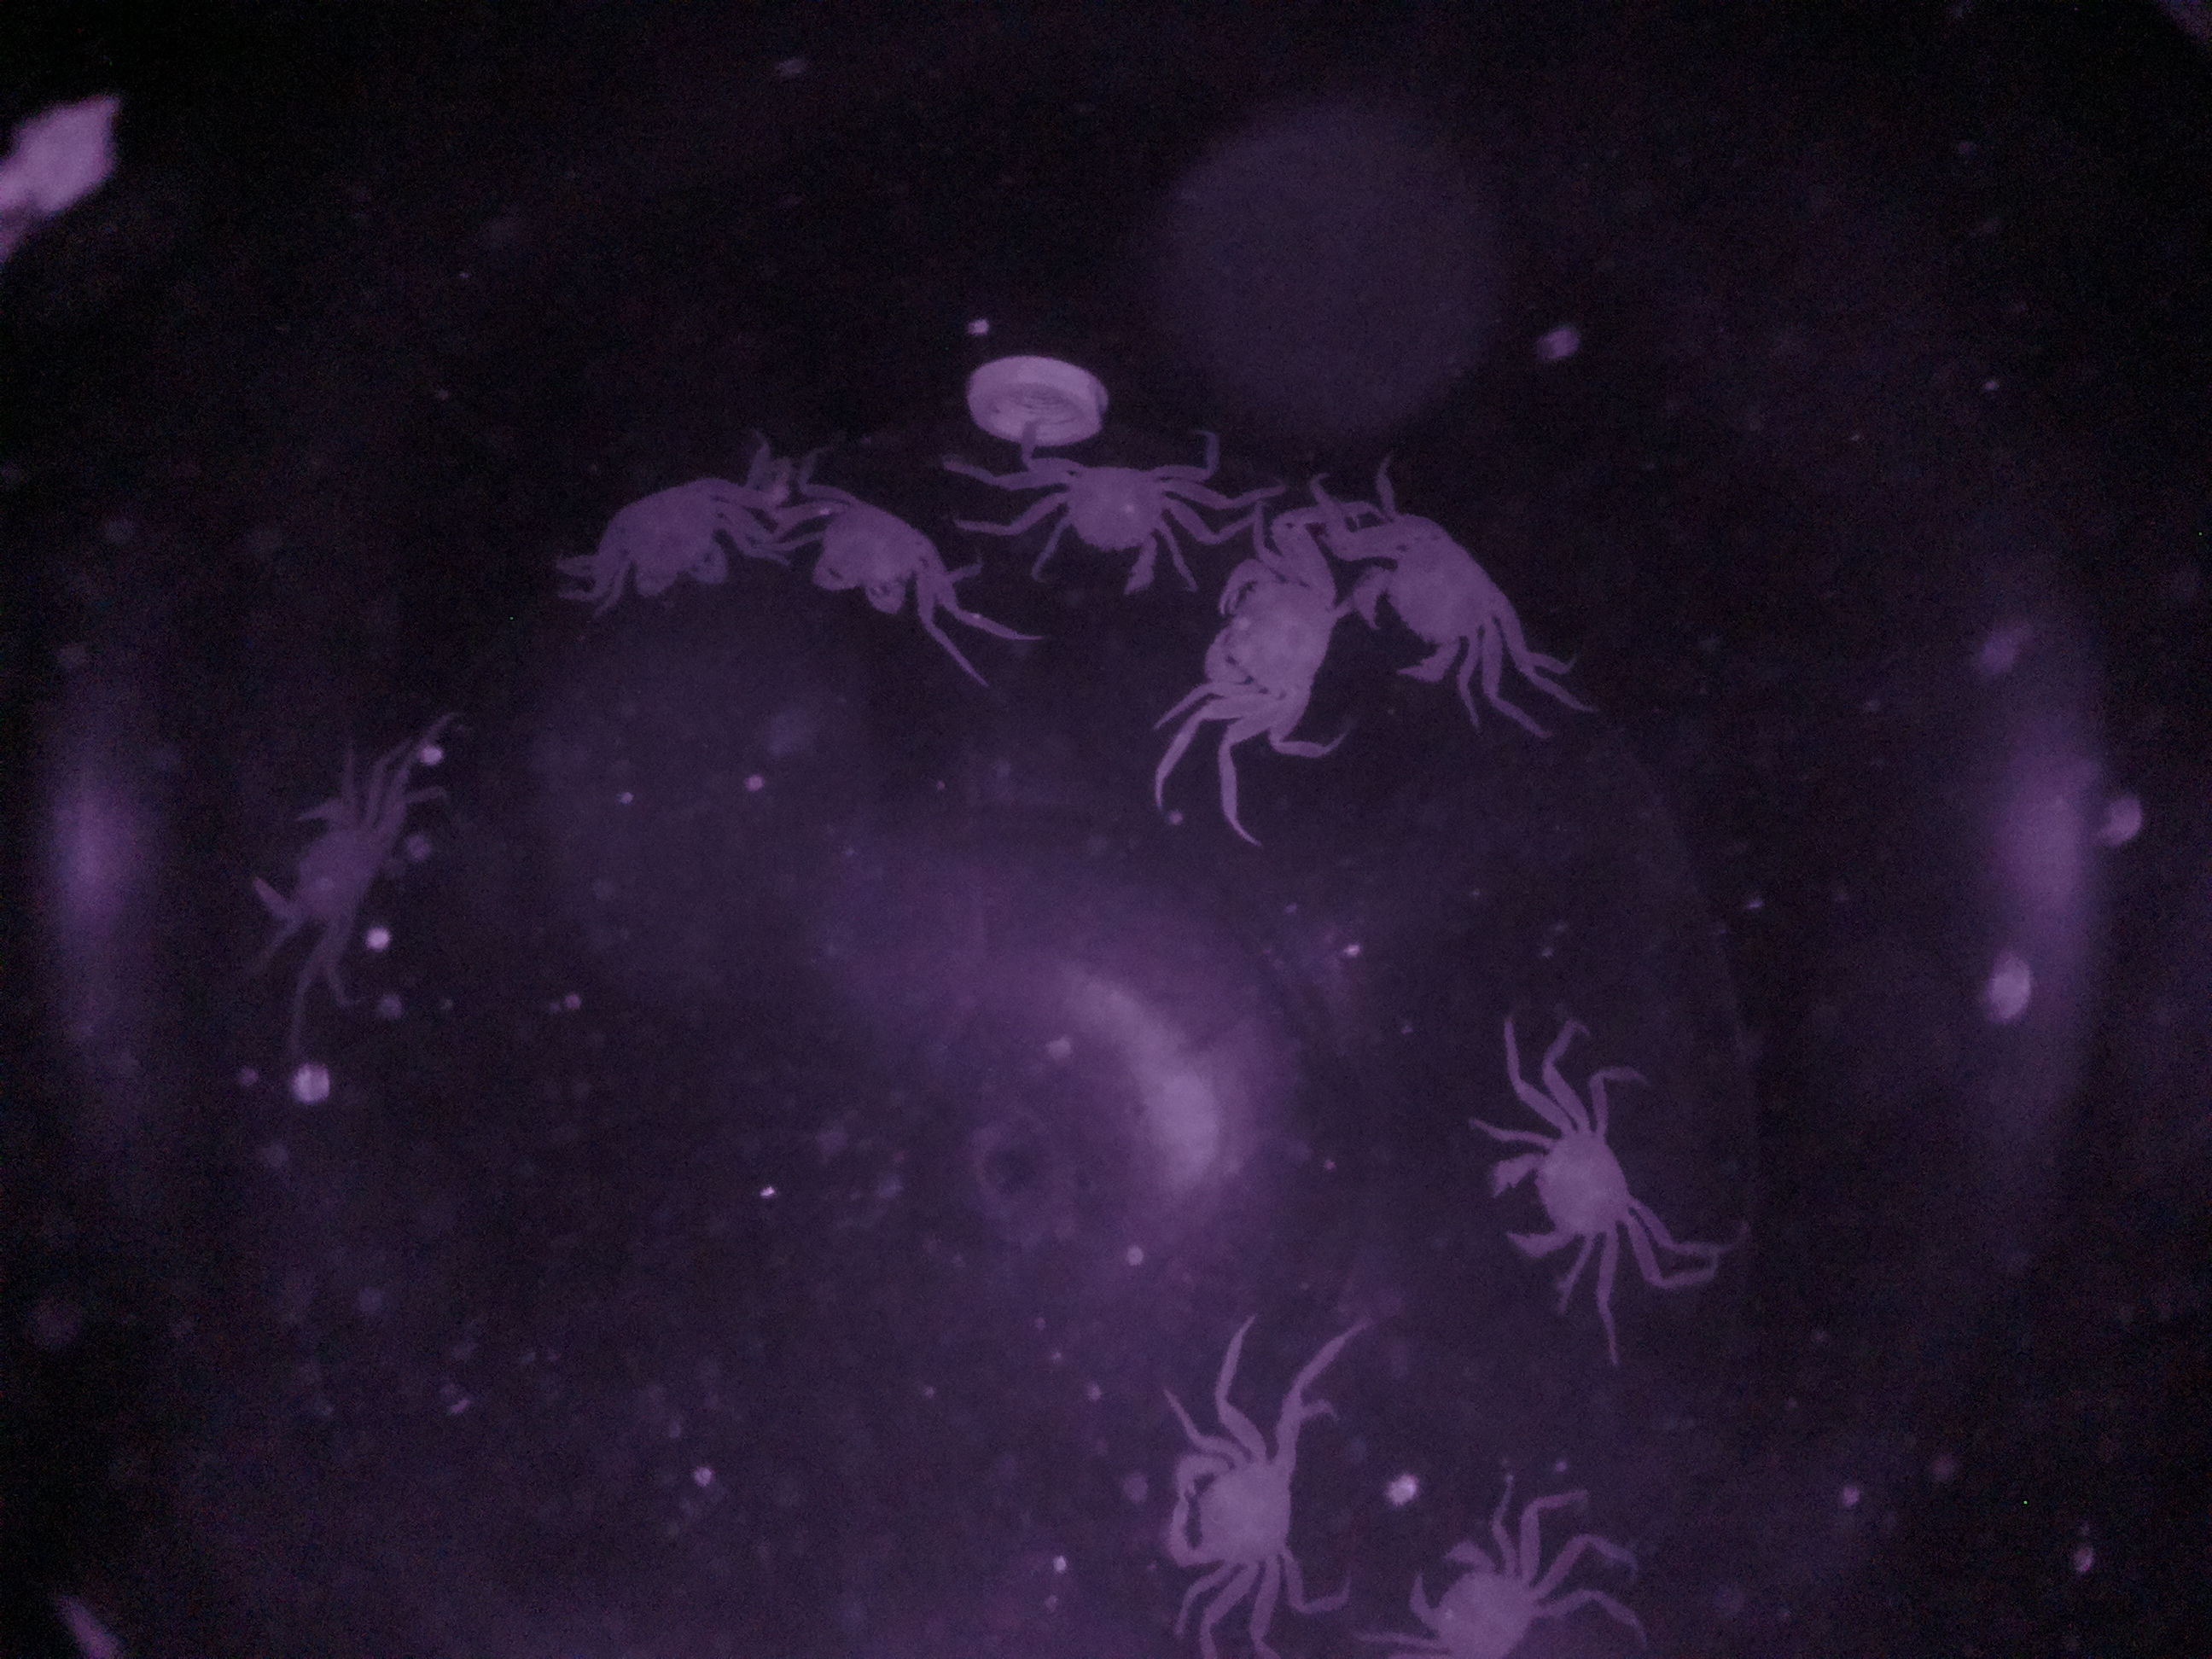Crab: (1348, 443, 1541, 727), (1474, 1073, 1683, 1321), (1143, 1384, 1327, 1608), (1008, 420, 1217, 617), (1366, 1445, 1552, 1659), (772, 458, 977, 650), (566, 450, 772, 613)
